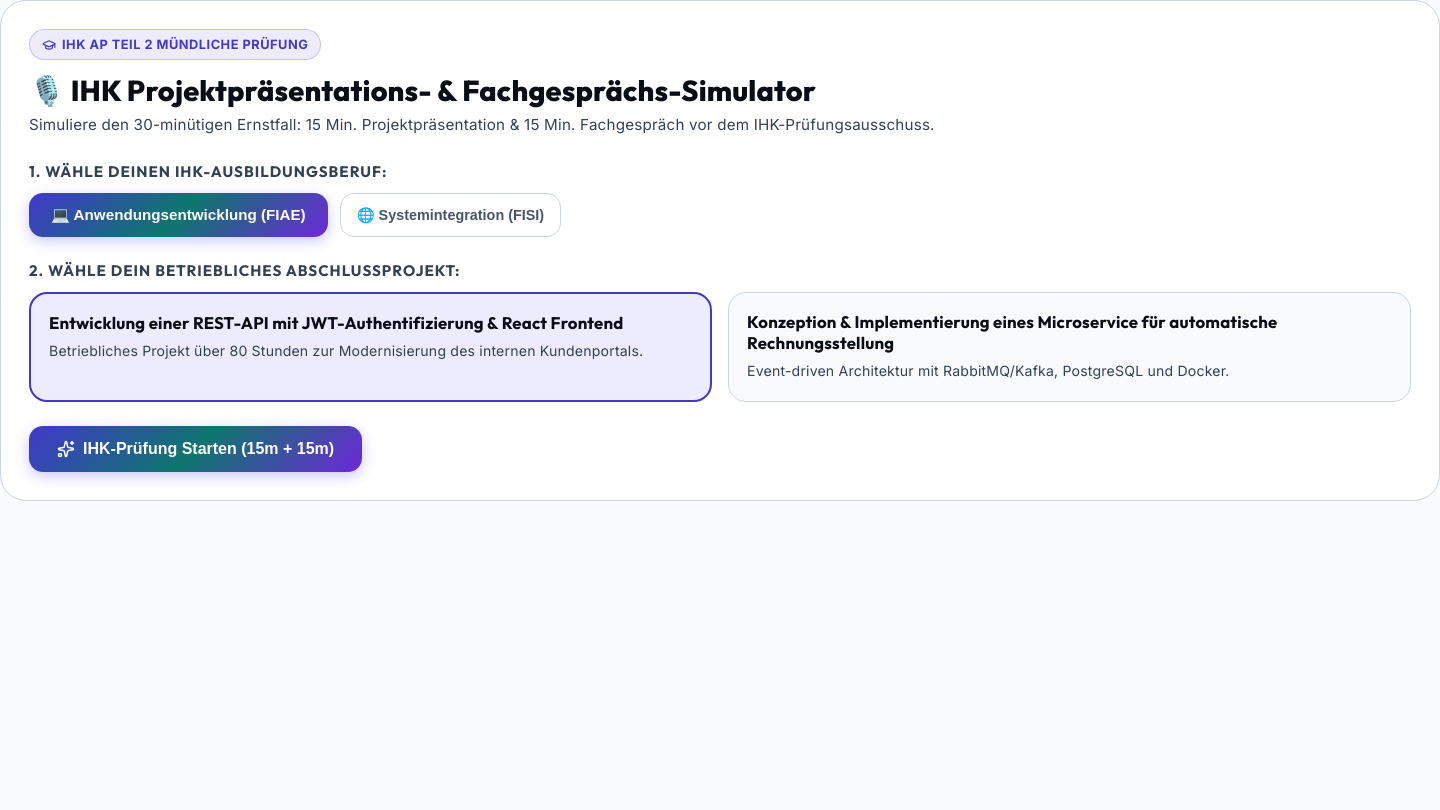
Test: IhkOralExamSimulator Interaktion › zeigt nach dem Start die Präsentations-Checkliste (Regression: checklist war nicht definiert)
Click the button "IHK-Prüfung Starten (15m + 15m)".
click(196, 449)  # box [29, 426, 362, 472]
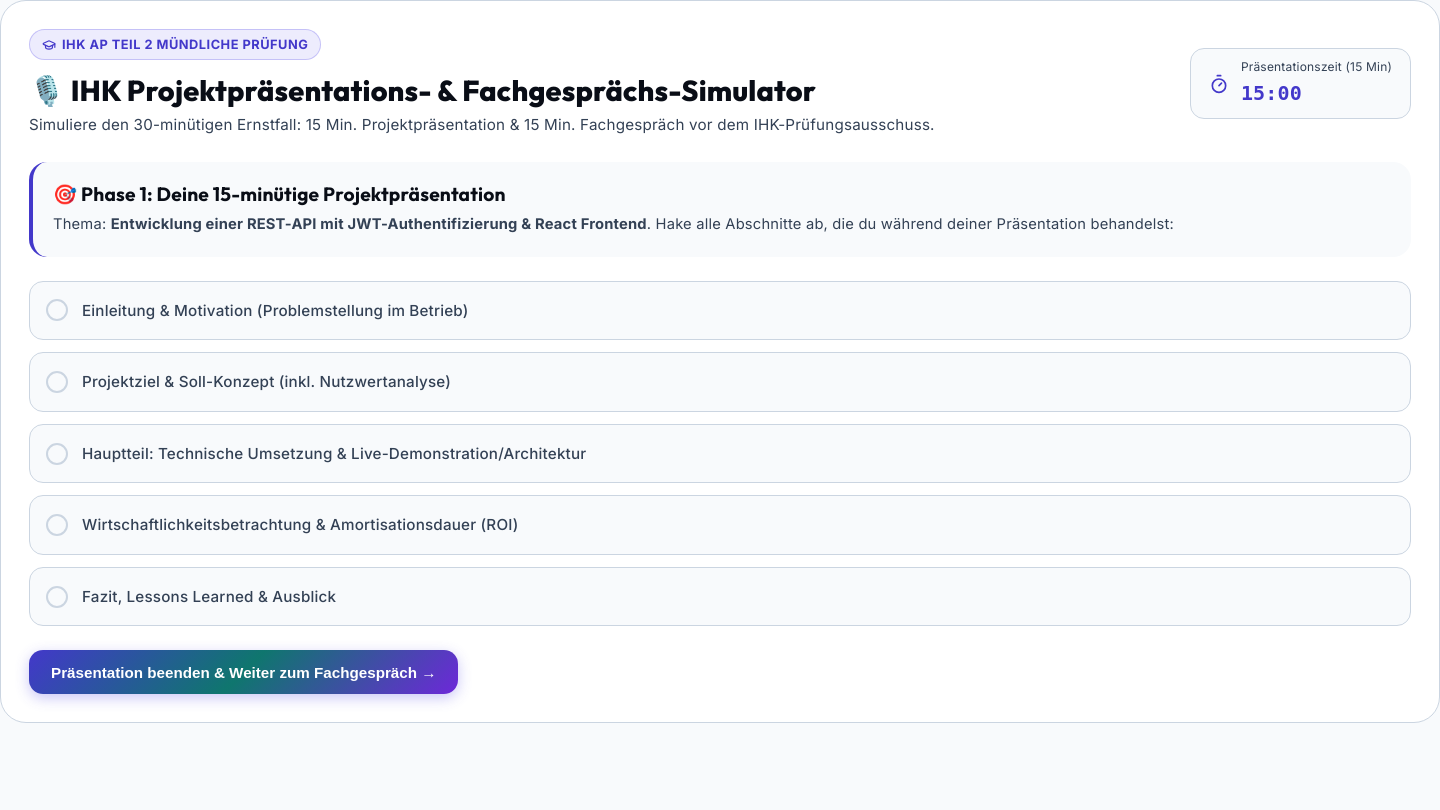
Result: the text "Einleitung & Motivation (Problemstellung im Betrieb)" is shown at [82, 298, 468, 323]
Result: the text "Fazit, Lessons Learned & Ausblick" is shown at [82, 584, 336, 609]
